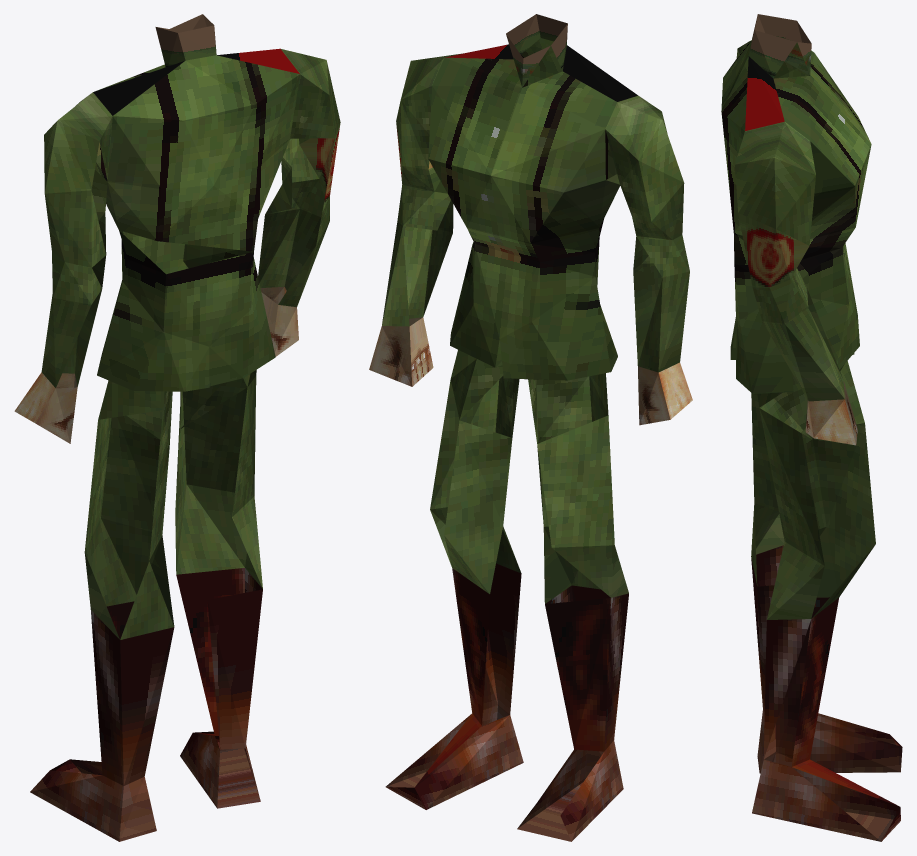
File: primary_105.glb
3 renders of one model, left to right at view 1: azimuth 30°, elevation 25°; view 2: azimuth 150°, elevation 25°; view 3: azimuth 270°, elevation 25°, orthographic. The views are drawn at different scales.
Visible parts, largest first — view 1: Object; view 2: Object; view 3: Object.
Boxes of the visible parts, left/top/right/bottom form: Object: left=14, top=14, right=340, bottom=841; Object: left=369, top=14, right=692, bottom=841; Object: left=721, top=14, right=902, bottom=841.
Bounding box in the file's own units: 0.7428 × 1.83 × 0.3888.
64 materials, 64 textured.
